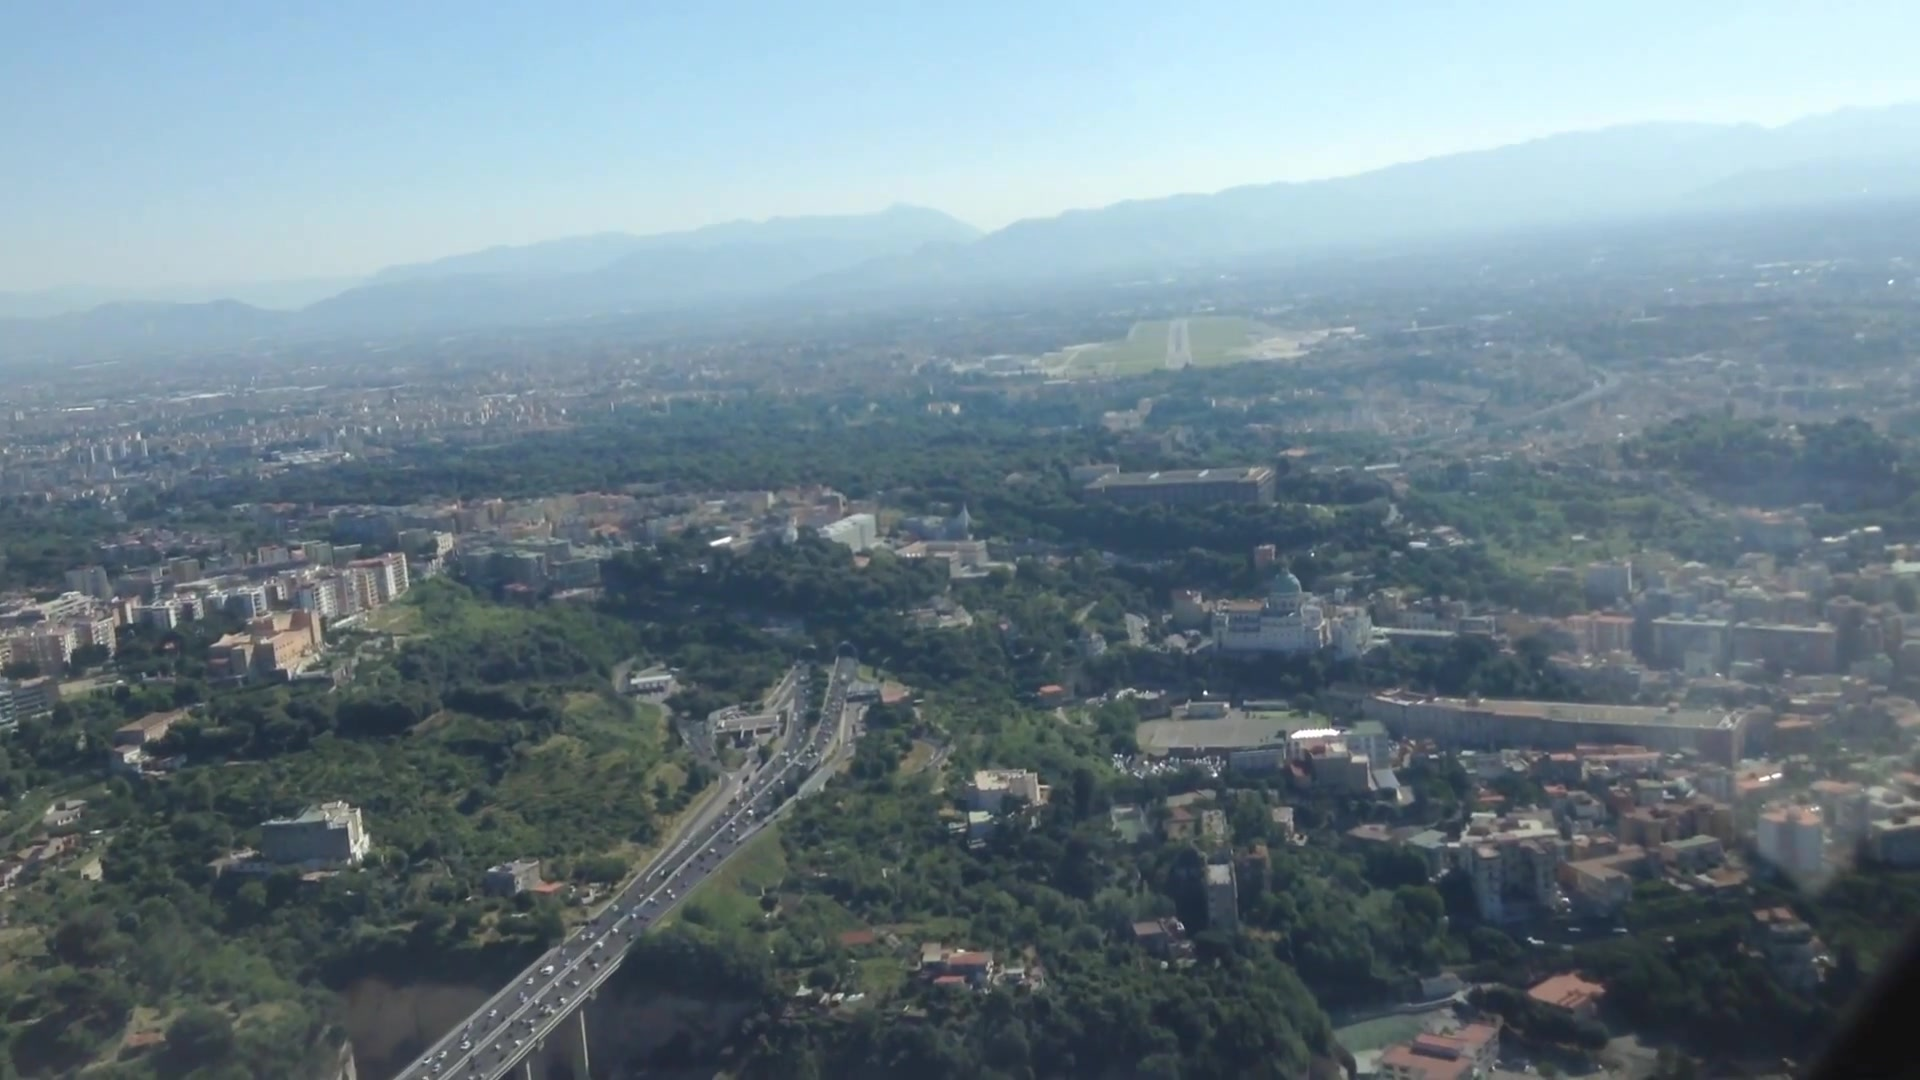runway: (1163, 315, 1193, 369)
